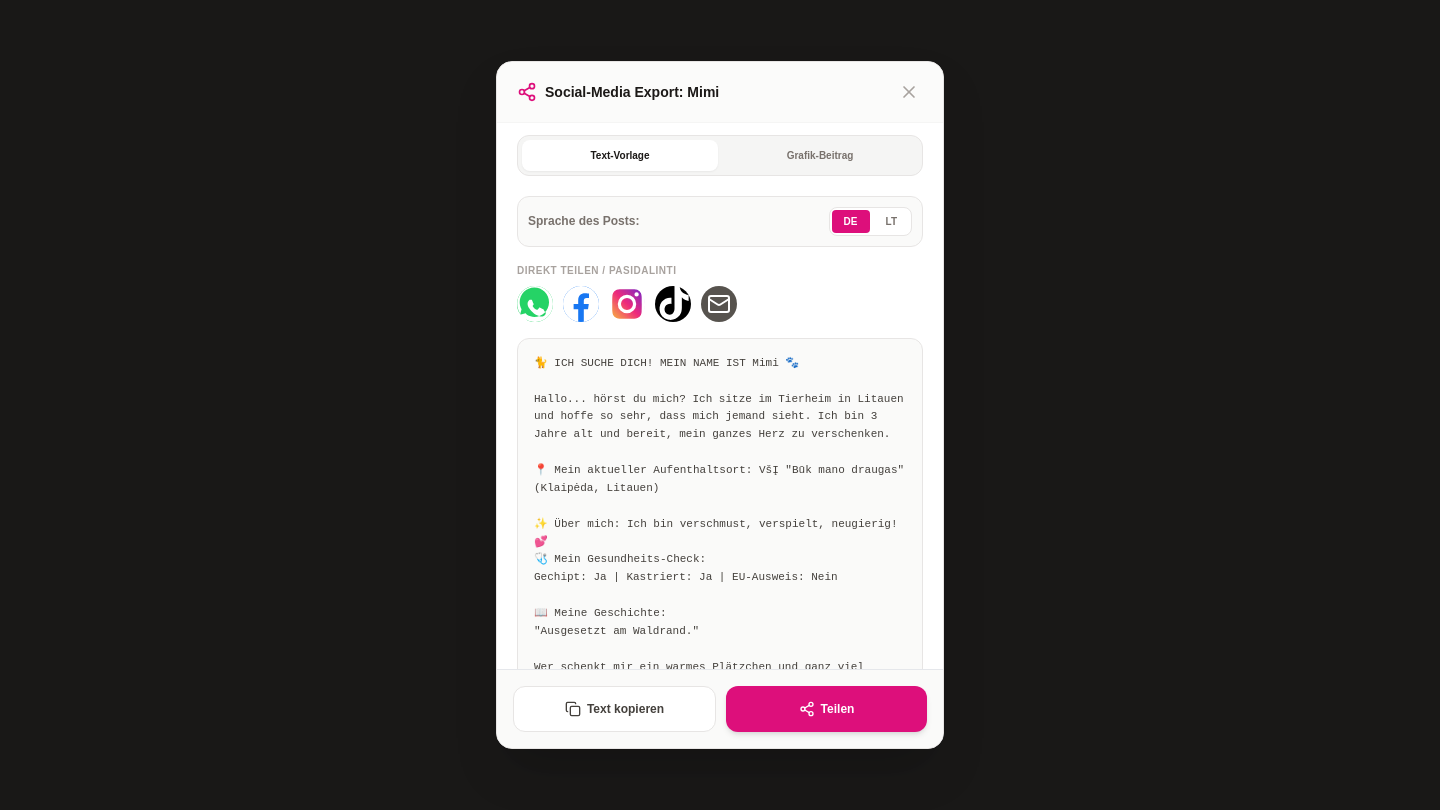
Scenario: SharePanel Social Exporter Component › Negative Path: Fallback photo is drawn when animal has no media_urls
Click the button "Grafik-Beitrag": (820, 155) [722,140,918,171]
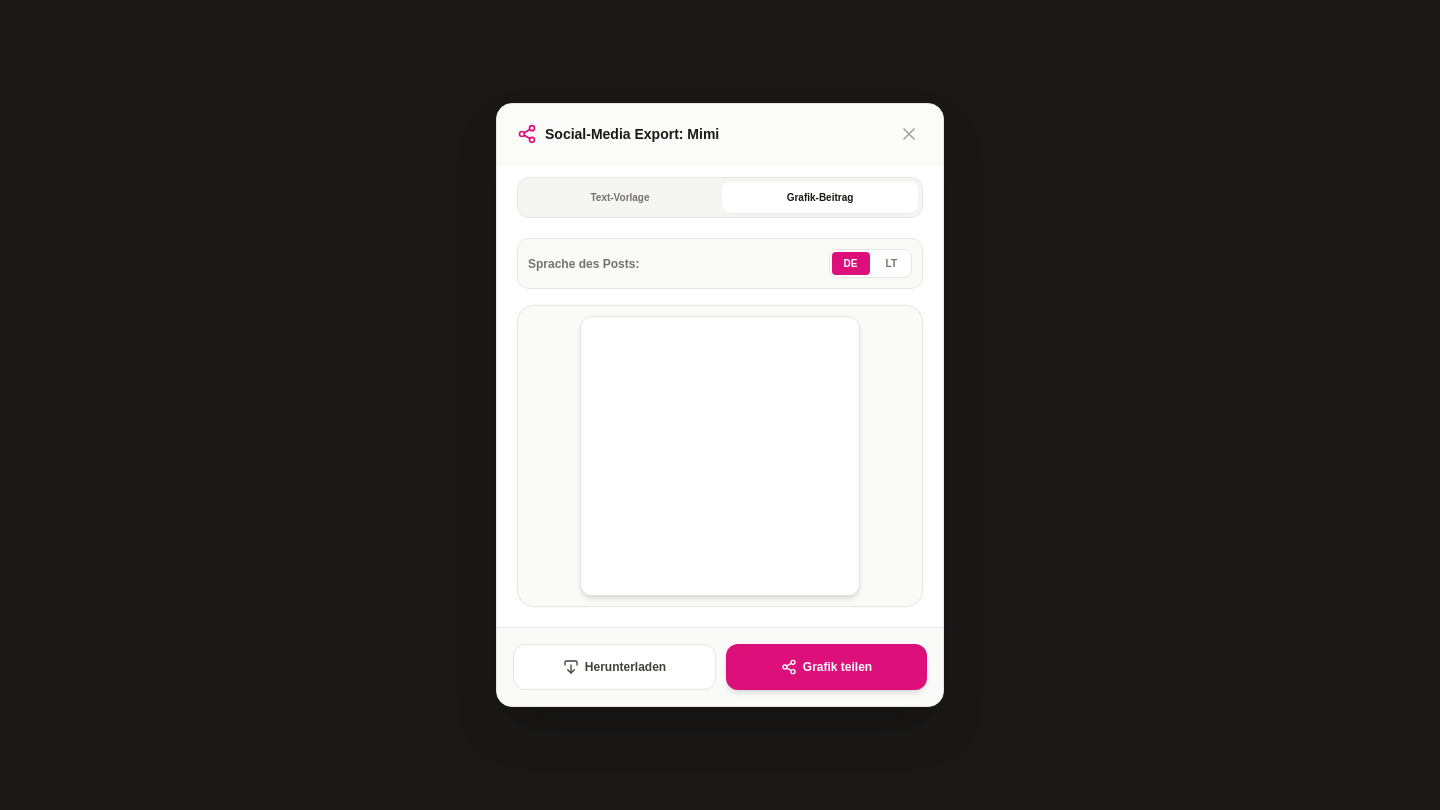
Check: the drawing is shown, box [580,316,860,596]
